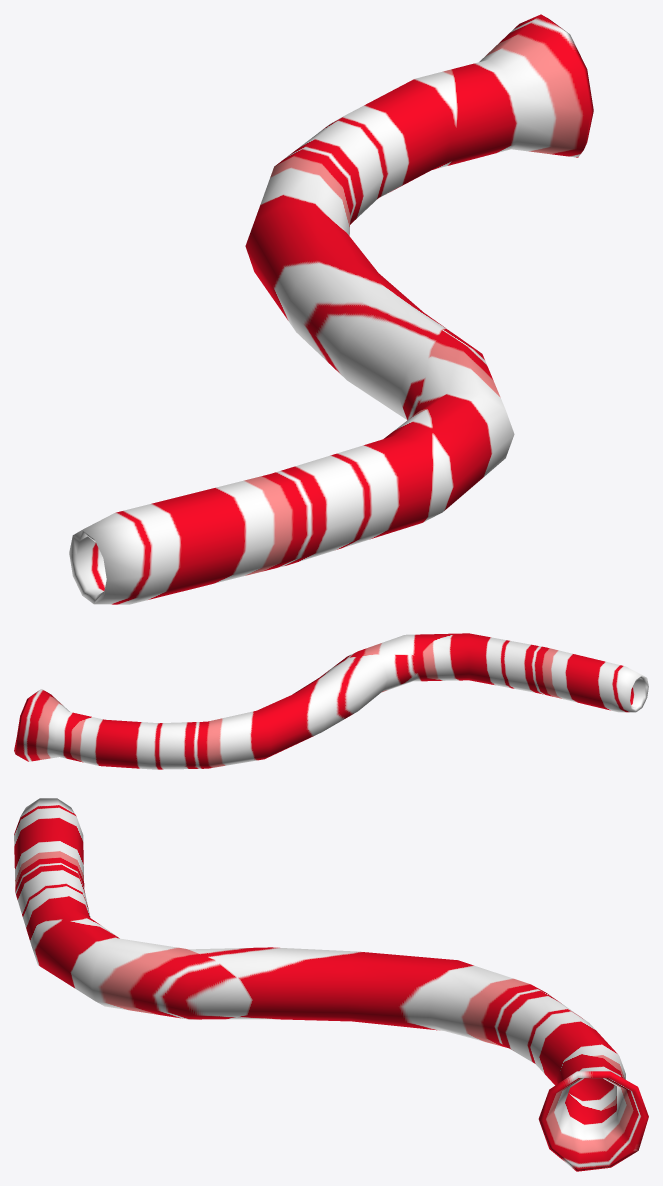
File: CandyTwistTunnel.fbx
3 views of the same model, one above another, from view 1: azimuth 30°, elevation 25°; view 2: azimuth 150°, elevation 25°; view 3: azimuth 270°, elevation 25° (orthographic). The views are drawn at different scales.
Parts seen in each view (by area): view 1: Cylinder.011; view 2: Cylinder.011; view 3: Cylinder.011.
Boxes of the visible parts, <box> form: Cylinder.011: <box>69,14,593,604</box>; Cylinder.011: <box>14,633,648,769</box>; Cylinder.011: <box>14,798,648,1171</box>.
Size of the model in its own units: 1194 by 173 by 1046.
